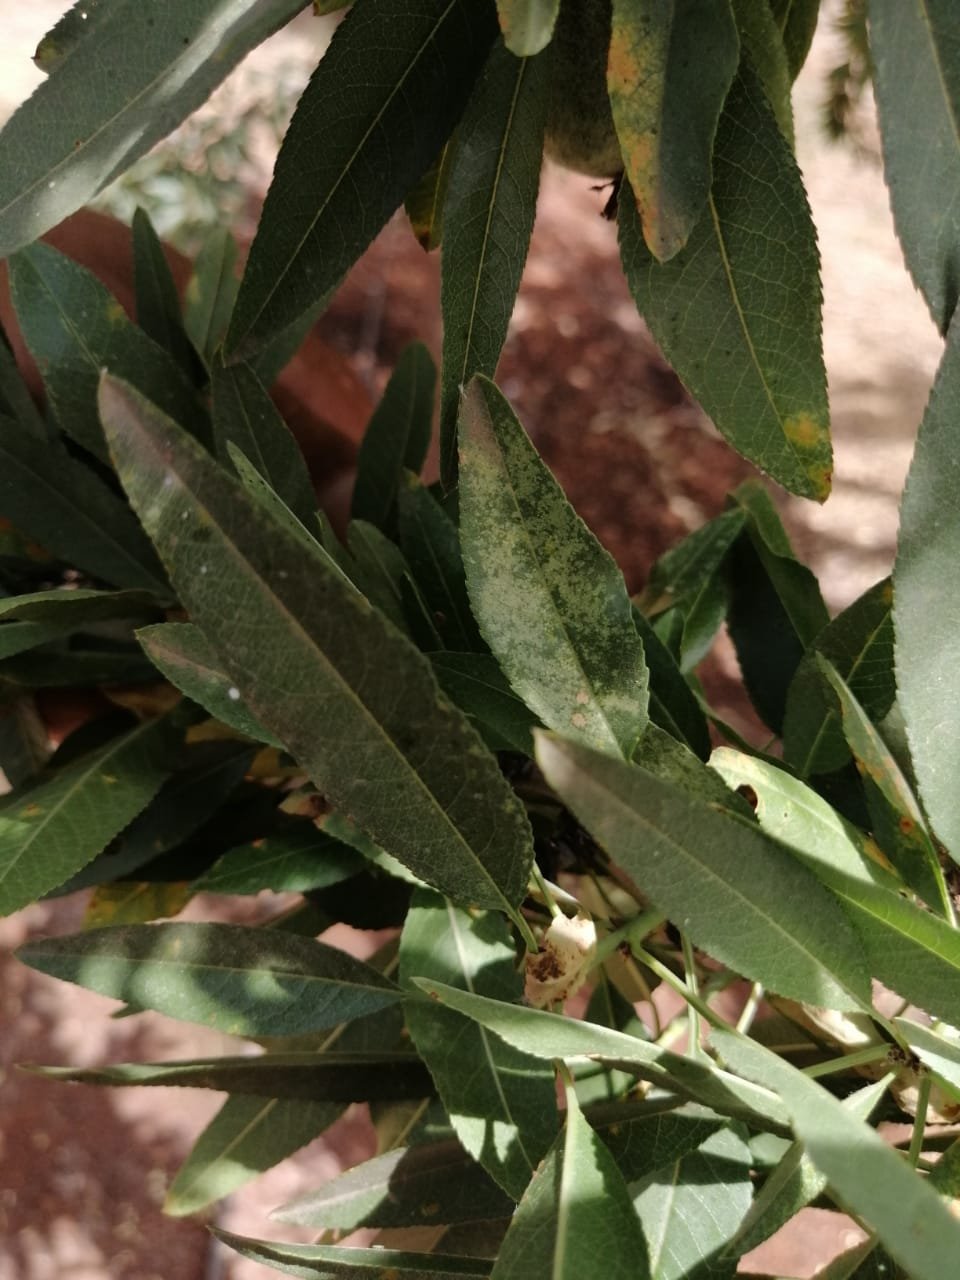faux tigre: (91, 365, 536, 914), (457, 372, 648, 764)
